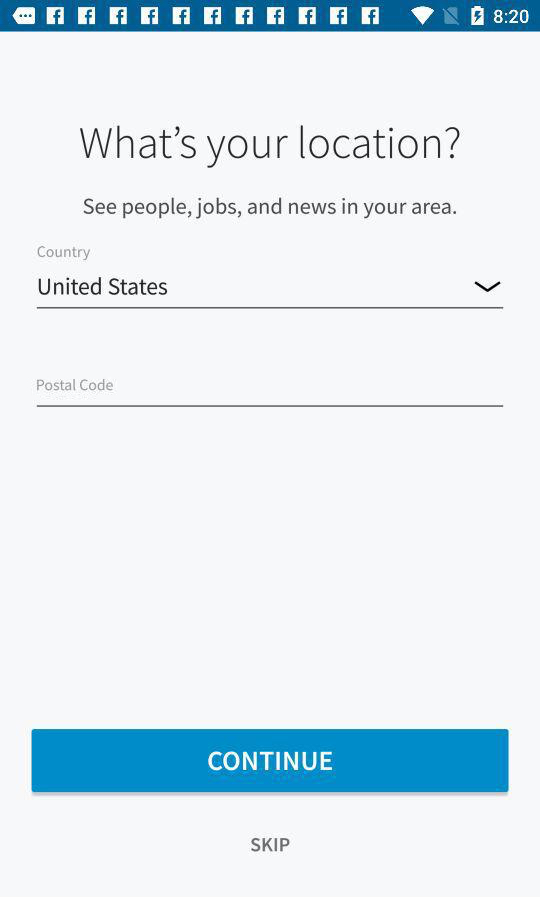EditText: (37, 277, 504, 310), (37, 378, 504, 408)
Icon: (474, 280, 501, 294)
Text: (80, 125, 461, 169), (83, 196, 458, 221), (40, 277, 168, 296), (37, 379, 114, 391), (38, 246, 92, 262), (251, 837, 291, 853)
TextButton: (32, 729, 509, 793)
UpperTaskBar: (1, 1, 540, 33)
